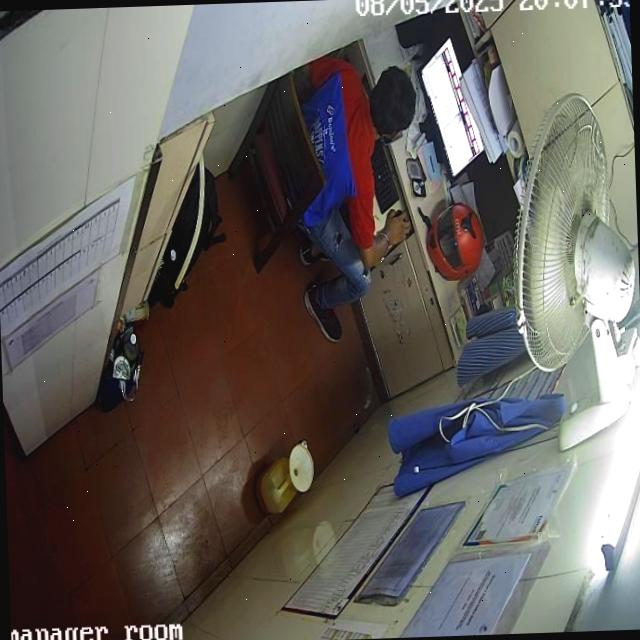no_helmet: (425, 204, 483, 281), (369, 65, 416, 139)
